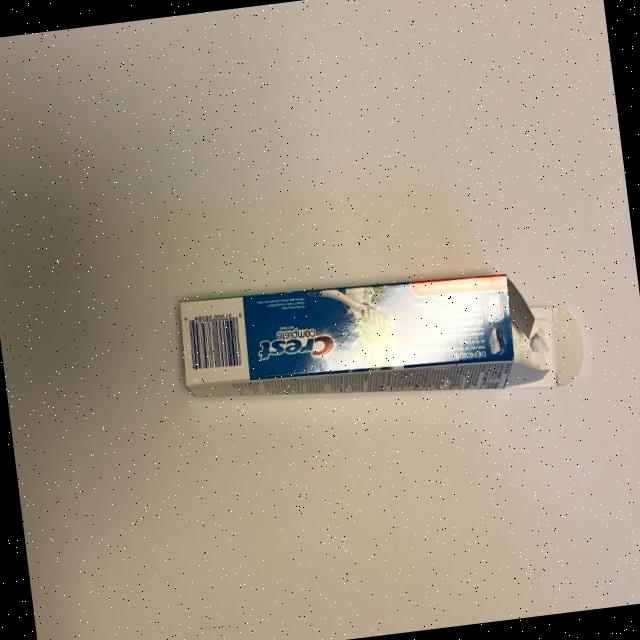paper: (174, 253, 587, 432)
